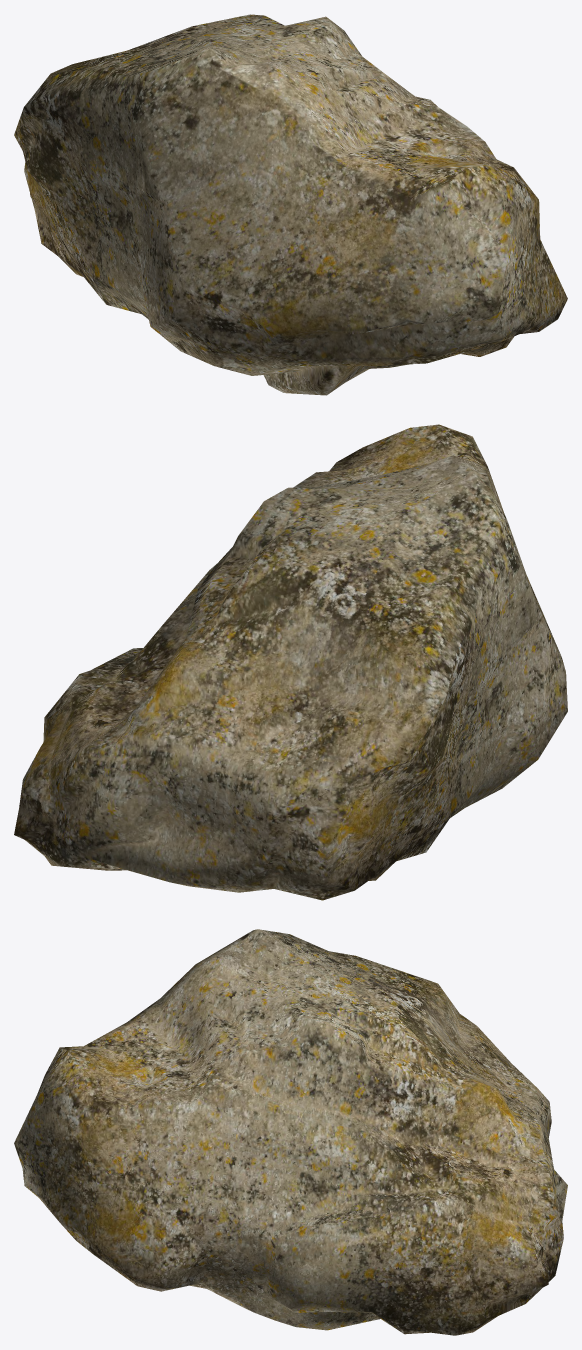
File: roca1.obj
3 views of the same model, one above another, from view 1: azimuth 30°, elevation 25°; view 2: azimuth 150°, elevation 25°; view 3: azimuth 270°, elevation 25° (orthographic). The views are drawn at different scales.
Parts seen in each view (by area): view 1: Rock_2; view 2: Rock_2; view 3: Rock_2.
Part boxes in pixels (bbox=[...]): Rock_2: bbox=[14, 14, 567, 395]; Rock_2: bbox=[14, 424, 567, 900]; Rock_2: bbox=[14, 929, 567, 1335].
Size of the model in its own units: 3.14 by 2.84 by 4.6.
1 material, 1 textured.
